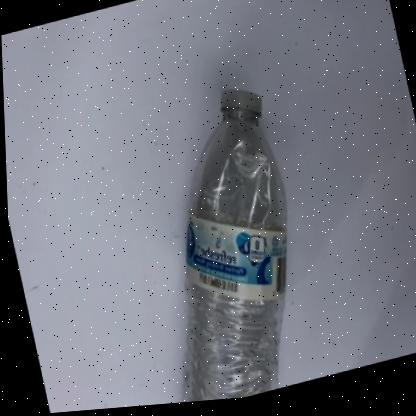Plastic: (178, 92, 283, 405)
